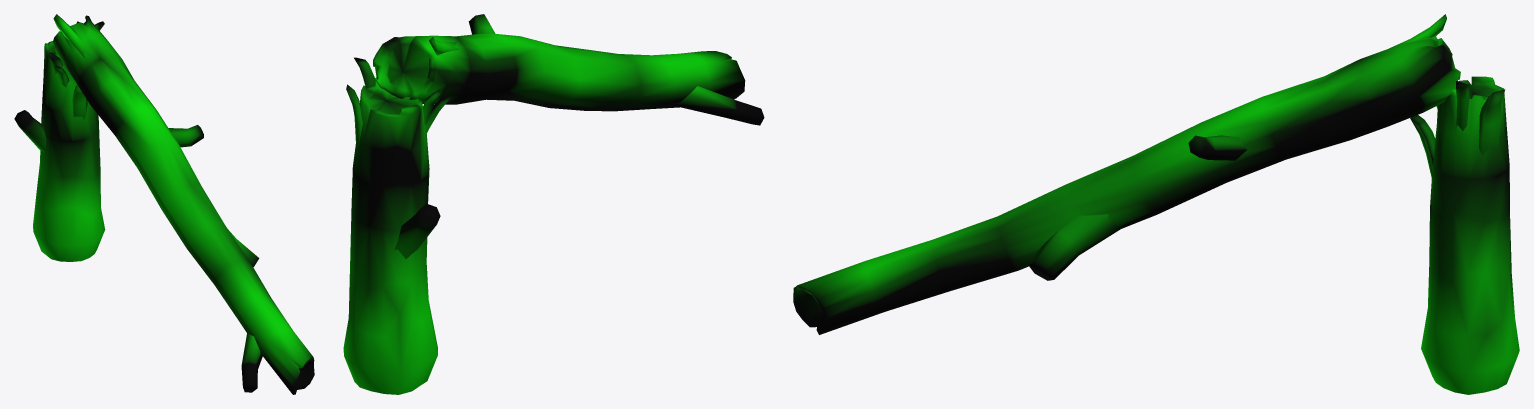
Rendered from SM_FirFallen2.FBX.
3 renders of one model, left to right at view 1: azimuth 30°, elevation 25°; view 2: azimuth 150°, elevation 25°; view 3: azimuth 270°, elevation 25°, orthographic. The views are drawn at different scales.
Visible parts, largest first — view 1: SM_FirFallen2; view 2: SM_FirFallen2; view 3: SM_FirFallen2.
Boxes of the visible parts, x1,y1,x2,y2 form: SM_FirFallen2: (14, 14, 314, 394); SM_FirFallen2: (343, 14, 764, 394); SM_FirFallen2: (793, 14, 1519, 394).
Bounding box in the file's own units: 195 × 993 × 526.
